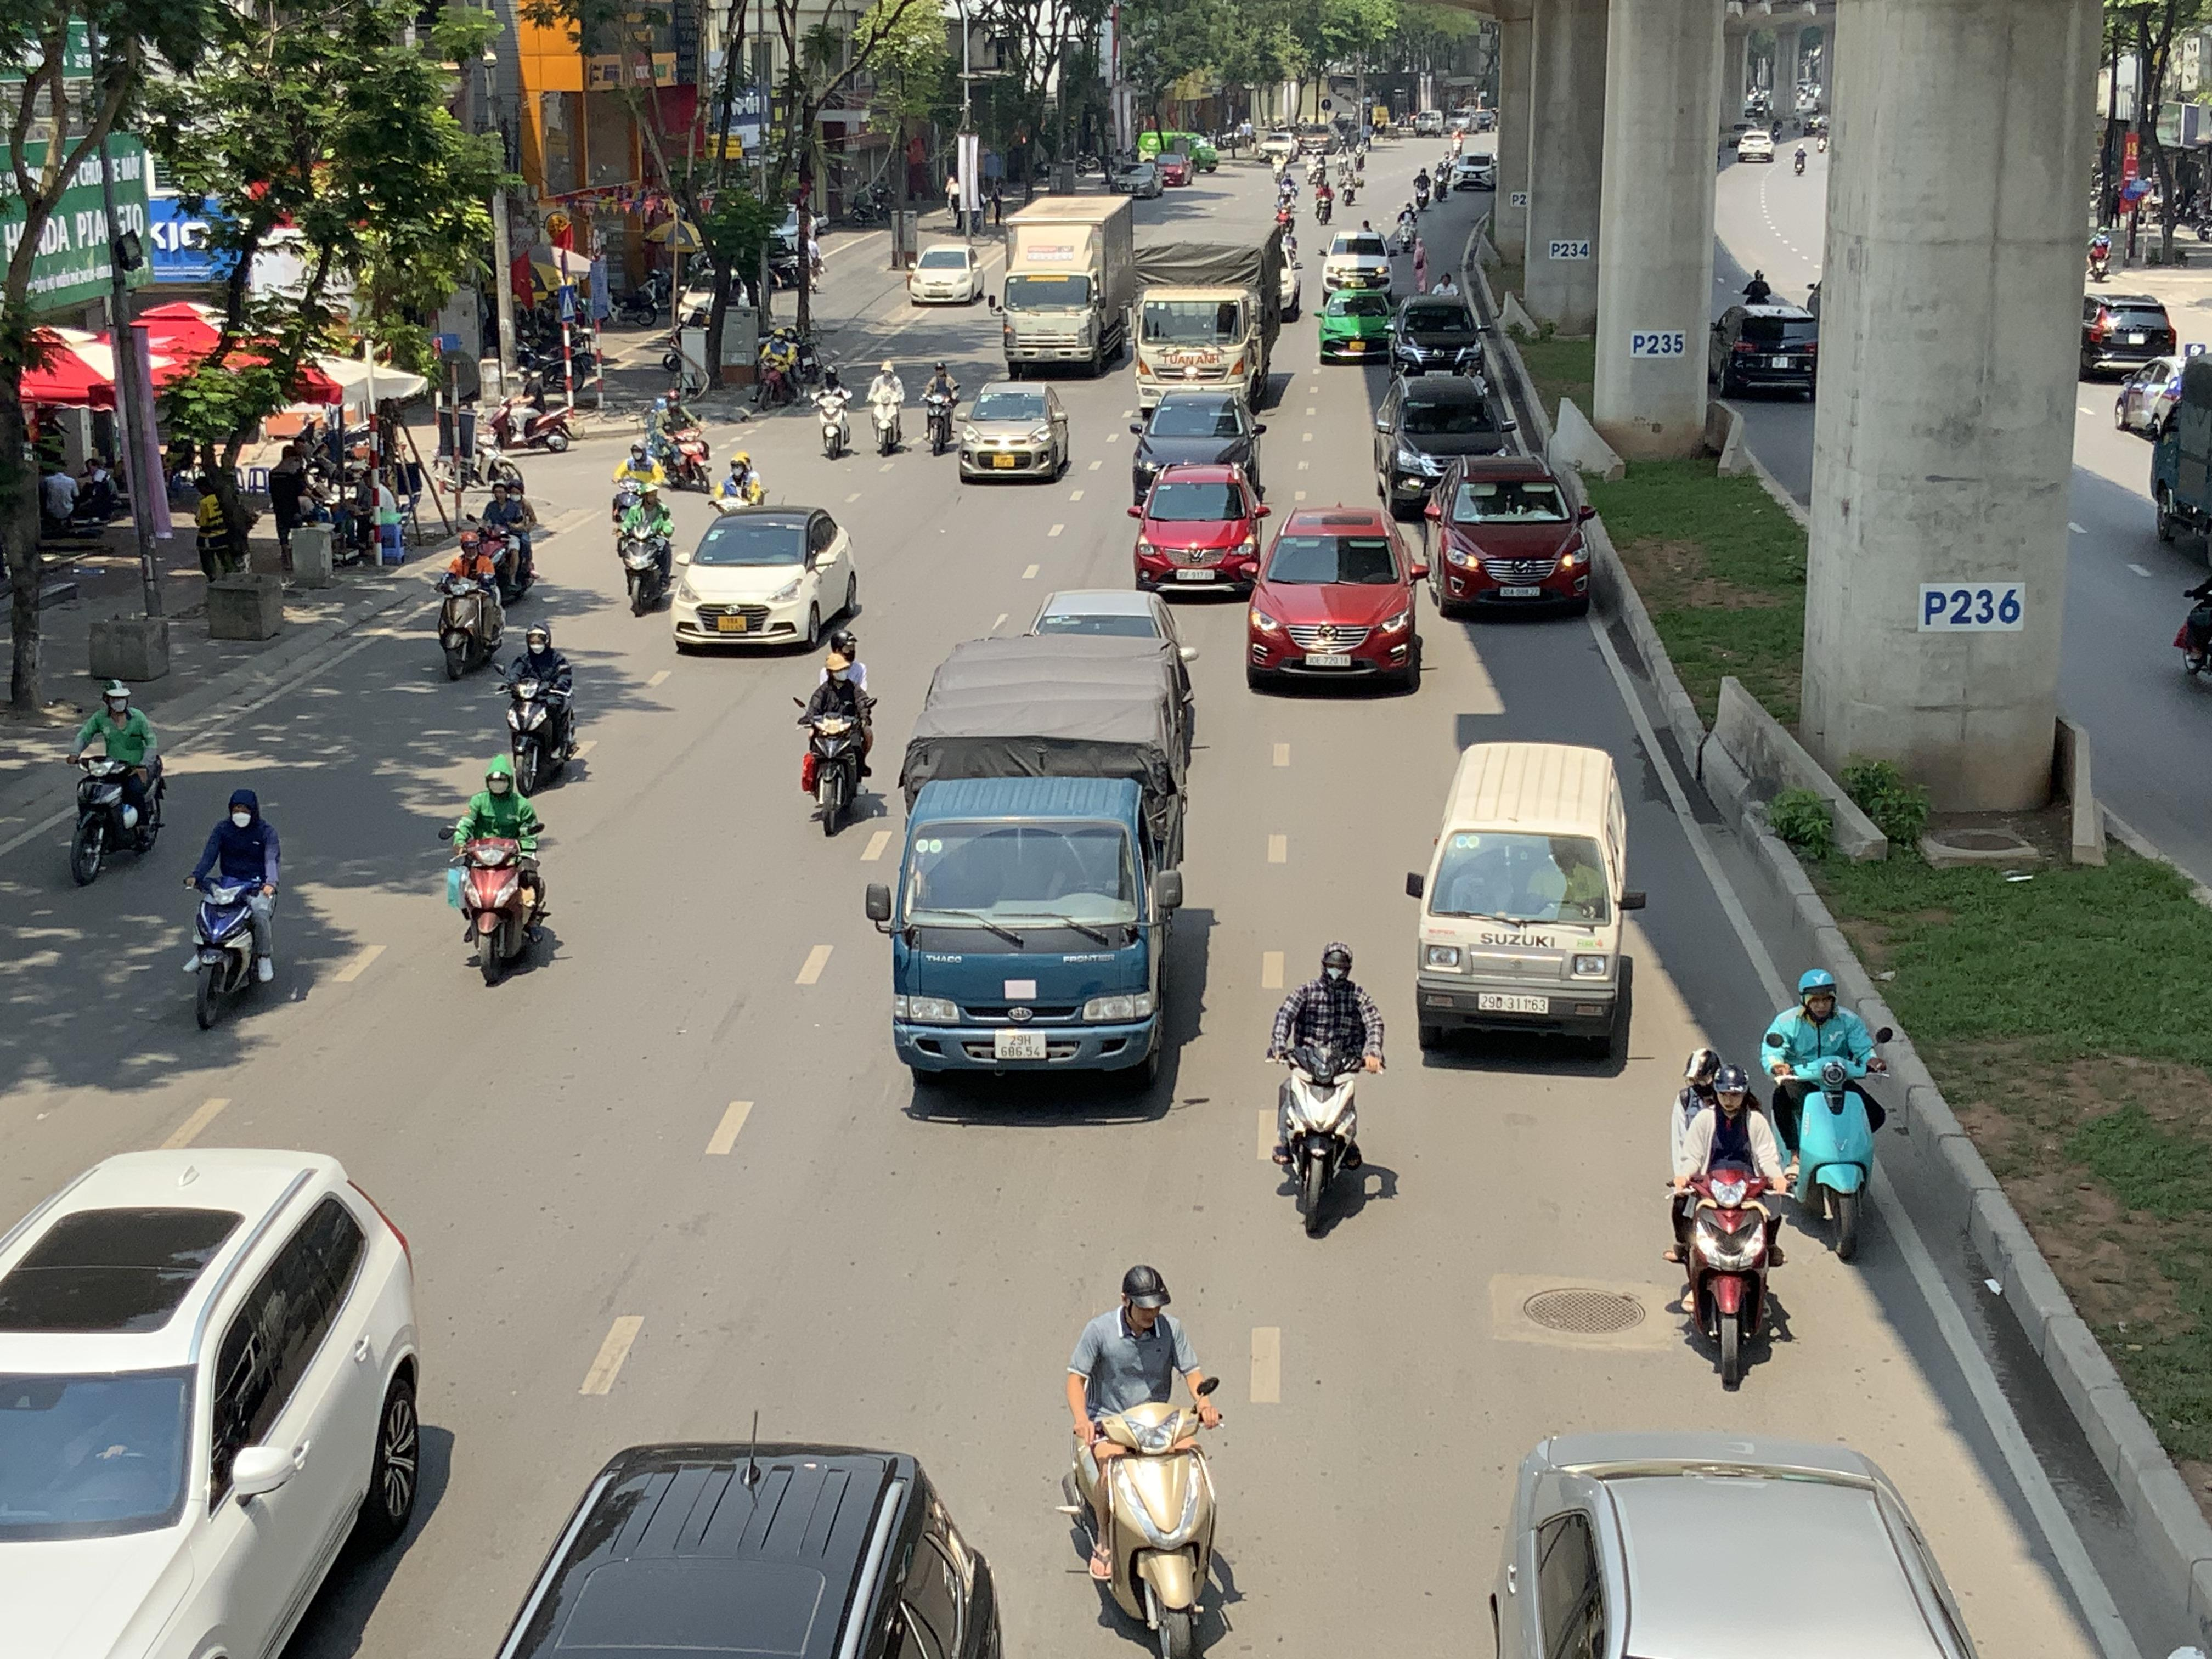BSD: (1479, 993, 1548, 1012), (1305, 653, 1352, 666), (1176, 570, 1214, 580), (1500, 587, 1540, 596)
BSV: (995, 1032, 1047, 1060), (718, 615, 745, 631), (991, 453, 1015, 467)
bus: (867, 631, 1200, 1096)
car: (0, 1145, 432, 1657), (394, 1439, 1012, 1659), (1484, 1429, 2043, 1659), (1404, 741, 1648, 1068), (1244, 505, 1430, 695), (1421, 453, 1595, 619), (671, 505, 862, 655), (1374, 373, 1519, 511), (1129, 462, 1270, 596), (1130, 387, 1266, 500), (1021, 587, 1197, 662), (956, 380, 1071, 483), (1717, 300, 1818, 399), (2083, 291, 2177, 378), (1390, 293, 1484, 376), (1317, 286, 1400, 362), (2114, 352, 2184, 437), (1322, 227, 1393, 296), (909, 242, 986, 307)
motorbike: (1061, 1262, 1240, 1659), (1665, 1051, 1794, 1394), (1763, 967, 1892, 1263), (1268, 939, 1385, 1241), (446, 756, 556, 988), (183, 786, 280, 1033), (66, 678, 167, 887), (796, 638, 878, 836), (500, 622, 585, 795), (434, 530, 505, 680), (479, 476, 542, 606), (617, 484, 676, 617), (2175, 537, 2212, 718), (491, 373, 573, 453), (754, 328, 806, 413), (662, 404, 712, 491), (813, 364, 857, 458), (867, 359, 909, 457), (920, 361, 960, 455), (711, 453, 768, 514)
truck: (1129, 234, 1277, 418), (998, 192, 1136, 378)
